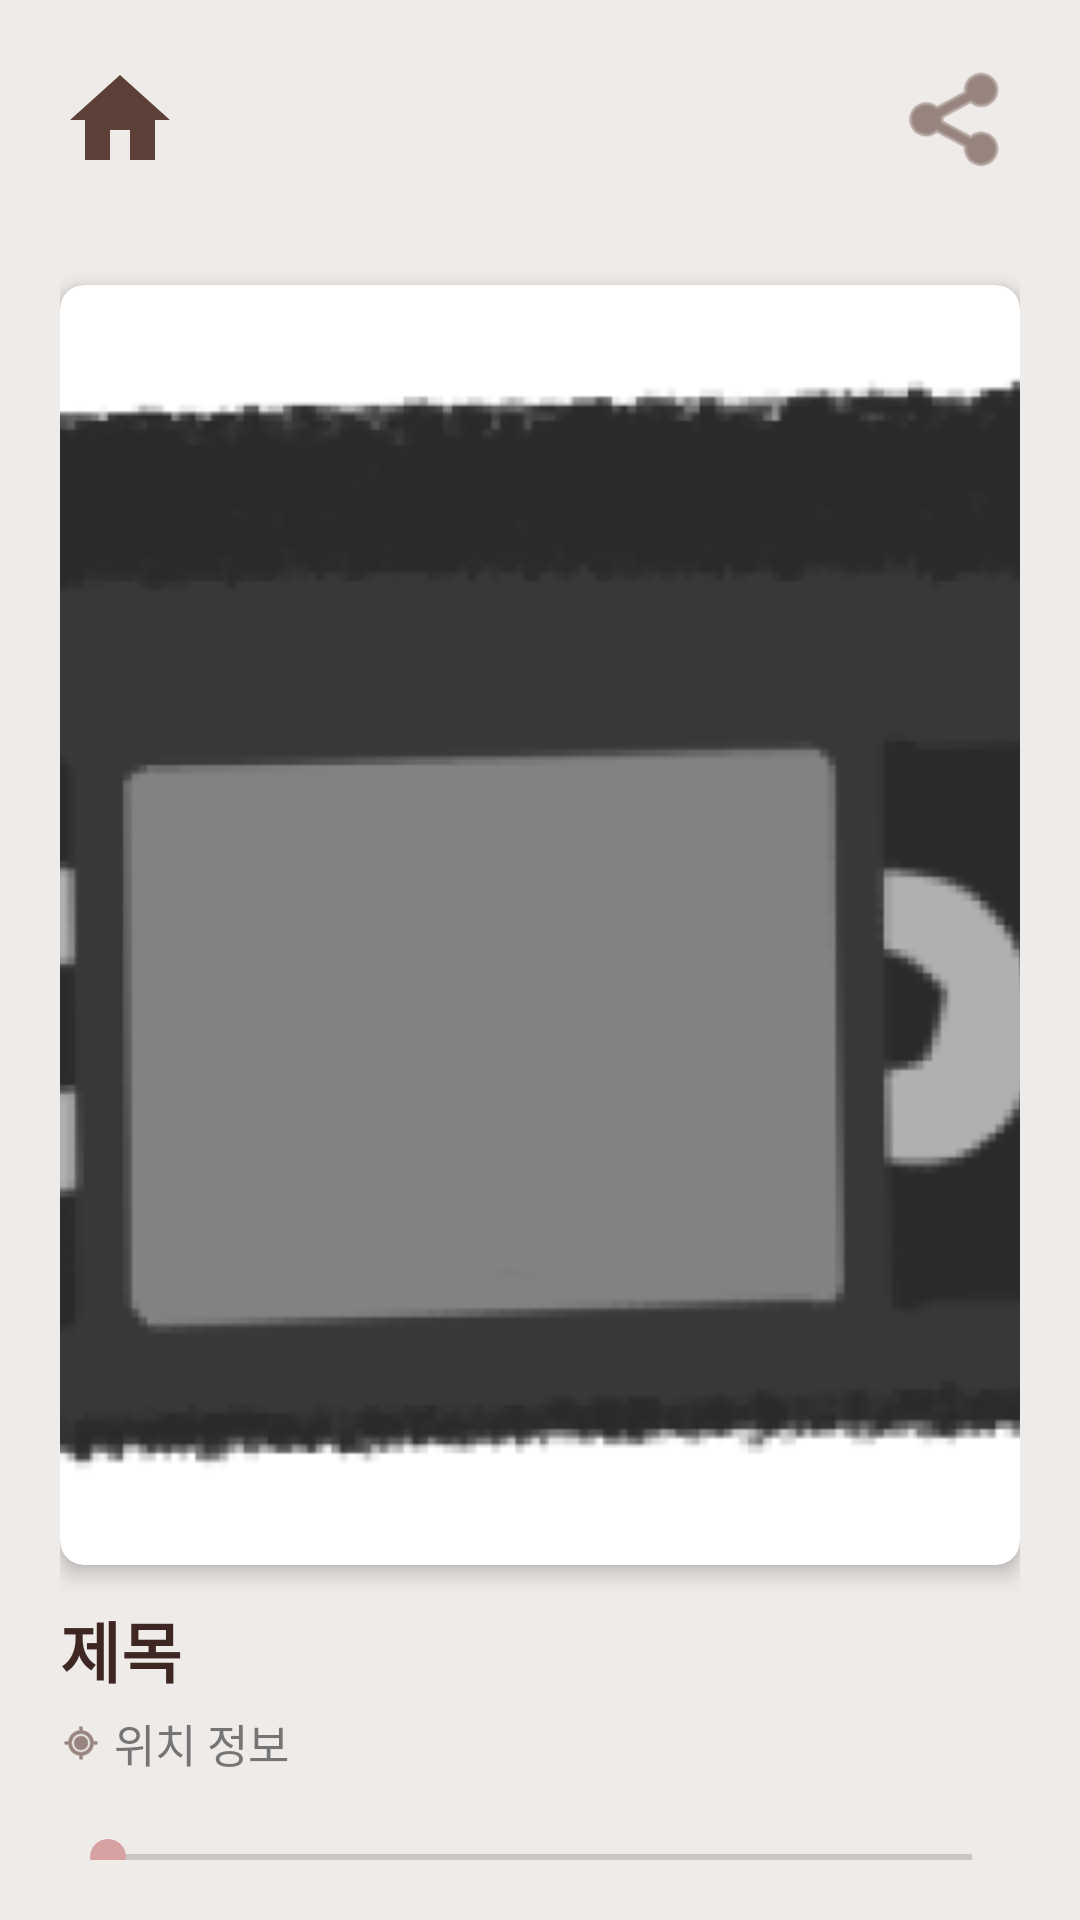

Icon click points for this 1080w x 1920h phone screenshot, format [x,y]:
공유하기: [954,119]
